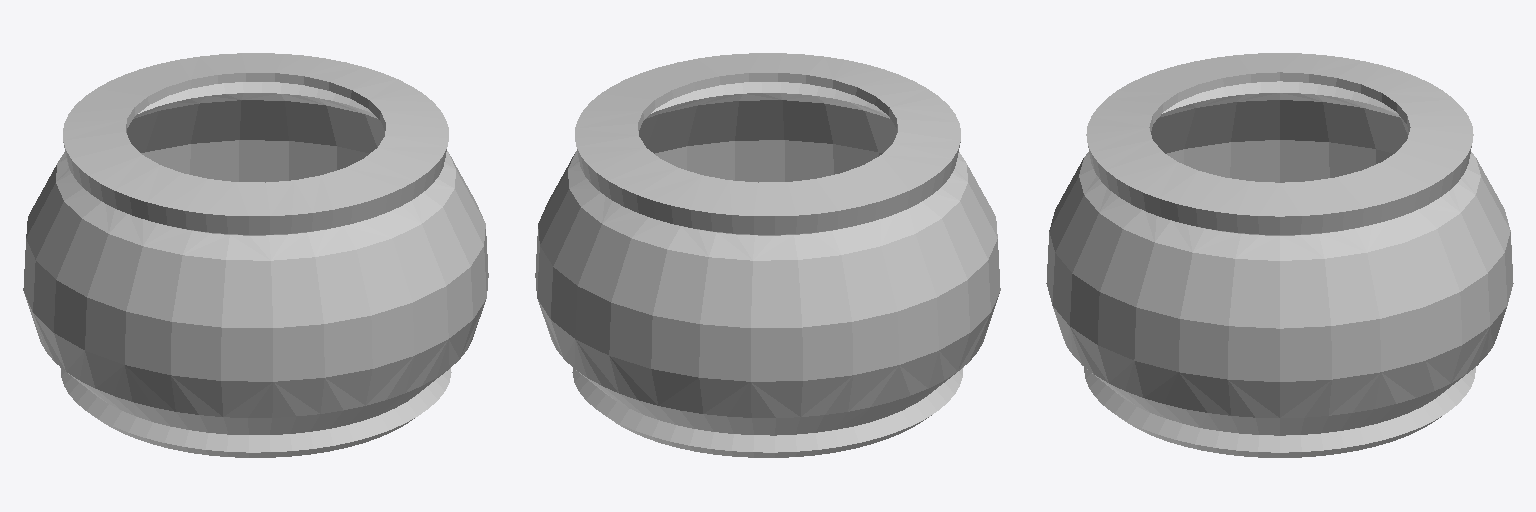
Rendered from gold fish with fish bowl.obj.
3 views of the same model, side by side, from view 1: azimuth 30°, elevation 25°; view 2: azimuth 150°, elevation 25°; view 3: azimuth 270°, elevation 25° (orthographic).
Visible parts, largest first — view 1: revolvedSurface1; view 2: revolvedSurface1; view 3: revolvedSurface1.
Part boxes in pixels (x1,y1,x2,y2): revolvedSurface1: (23, 53, 488, 457); revolvedSurface1: (535, 53, 1000, 457); revolvedSurface1: (1046, 53, 1513, 457).
Size of the model in its own units: 16.44 by 9.98 by 16.44.